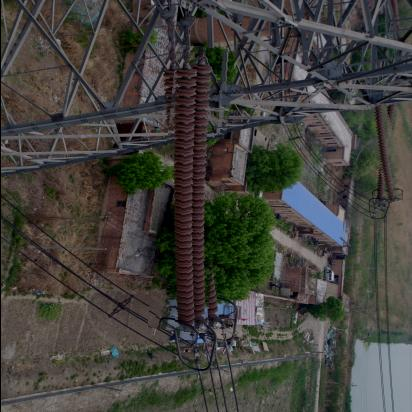insulator: (155, 46, 229, 333), (370, 105, 405, 204)
